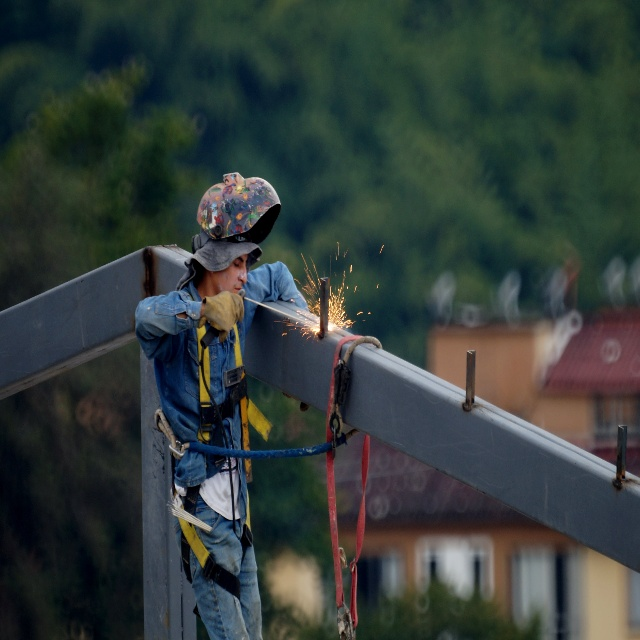Guantes: (201, 289, 245, 344)
